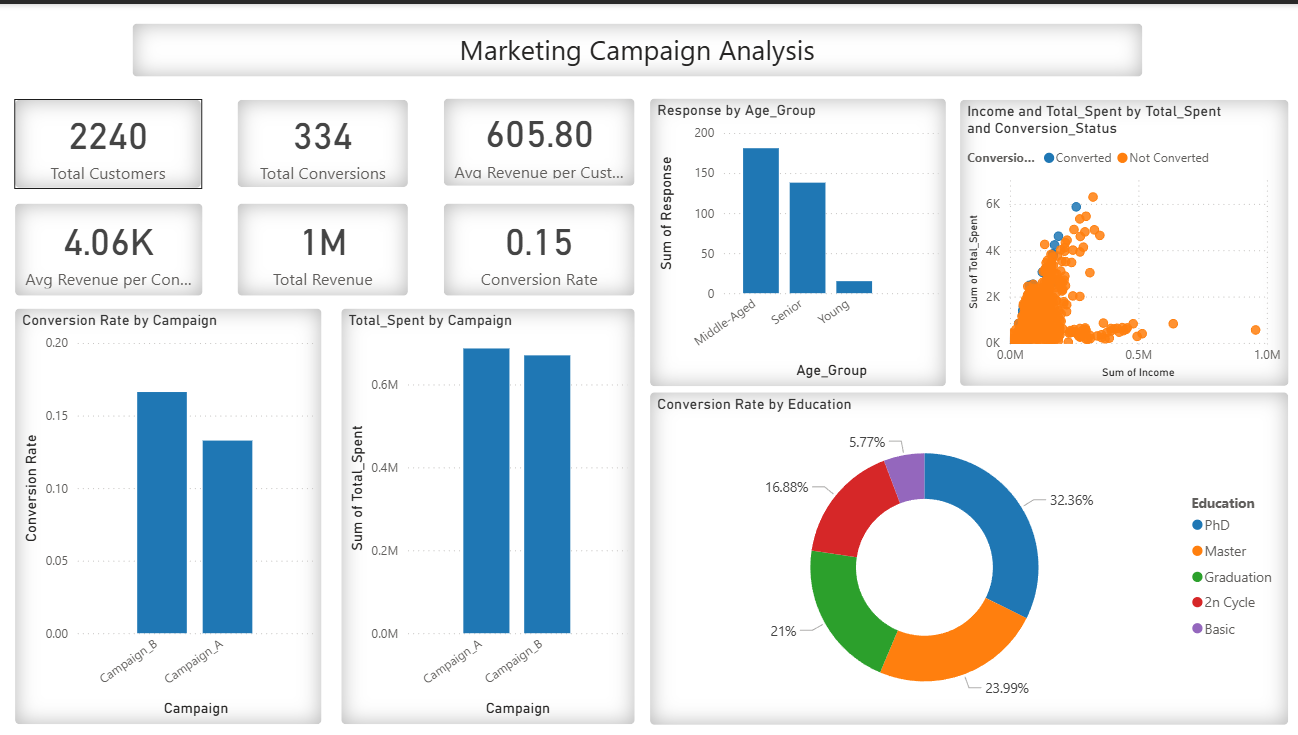

The page's visual inventory and layout, read from the dashboard file:
{"tool":"powerbi","page":{"name":"Page 1","canvas":[1280,720],"ordinal":0},"visuals":[{"type":"card","fields":{"Values":["marketing_campaign_powerbi_ready.Total Customers"]},"box":[16,93.3,184.1,88.3],"z":0},{"type":"card","fields":{"Values":["marketing_campaign_powerbi_ready.Conversion Rate"]},"box":[436.6,195.3,189.1,92.1],"z":1000},{"type":"card","fields":{"Values":["marketing_campaign_powerbi_ready.Total Conversions"]},"box":[233.9,93.3,169.2,87.1],"z":2000},{"type":"card","fields":{"Values":["marketing_campaign_powerbi_ready.Total Revenue"]},"box":[233.9,195.3,169.2,92.1],"z":3000},{"type":"card","fields":{"Values":["marketing_campaign_powerbi_ready.Avg Revenue per Customer"]},"box":[436.6,92.1,189.1,87.1],"z":4000},{"type":"card","fields":{"Values":["marketing_campaign_powerbi_ready.Avg Revenue per Converter"]},"box":[16,195.1,185.3,92],"z":5000},{"type":"clusteredColumnChart","fields":{"Category":["marketing_campaign_powerbi_ready.Campaign"],"Y":["marketing_campaign_powerbi_ready.Conversion Rate"]},"box":[16.2,298.6,302.3,409.3],"z":6000},{"type":"columnChart","title":"Total_Spent by Campaign","fields":{"Category":["marketing_campaign_powerbi_ready.Campaign"],"Y":["Sum(marketing_campaign_powerbi_ready.Total_Spent)"]},"box":[335.9,298.6,289.8,409.3],"z":7000},{"type":"columnChart","title":"Response by Age_Group","fields":{"Category":["marketing_campaign_powerbi_ready.Age_Group"],"Y":["Sum(marketing_campaign_powerbi_ready.Response)"]},"box":[639.4,92.1,292.3,283.6],"z":8000},{"type":"scatterChart","title":"Income and Total_Spent by Total_Spent and Conversion_Status","fields":{"X":["Sum(marketing_campaign_powerbi_ready.Income)"],"Series":["marketing_campaign_powerbi_ready.Conversion_Status"],"Category":["marketing_campaign_powerbi_ready.Total_Spent"],"Y":["Sum(marketing_campaign_powerbi_ready.Total_Spent)"]},"box":[943.6,93.3,323.9,282.2],"z":9000},{"type":"donutChart","fields":{"Category":["marketing_campaign_powerbi_ready.Education"],"Y":["marketing_campaign_powerbi_ready.Conversion Rate"]},"box":[639.3,380.4,628.2,327.6],"z":10000},{"type":"textbox","box":[131.9,18.7,992.7,53.5],"z":11000}]}

Visuals, with their boxes in screenshot pixels (x1, y1, x2, y2), scaled from the page's 1280x720 canvas onto the 1298x735 screenshot:
card - marketing_campaign_powerbi_ready.Total Customers: x1=16 y1=95 x2=203 y2=185
card - marketing_campaign_powerbi_ready.Conversion Rate: x1=443 y1=199 x2=634 y2=293
card - marketing_campaign_powerbi_ready.Total Conversions: x1=237 y1=95 x2=409 y2=184
card - marketing_campaign_powerbi_ready.Total Revenue: x1=237 y1=199 x2=409 y2=293
card - marketing_campaign_powerbi_ready.Avg Revenue per Customer: x1=443 y1=94 x2=634 y2=183
card - marketing_campaign_powerbi_ready.Avg Revenue per Converter: x1=16 y1=199 x2=204 y2=293
clusteredColumnChart - marketing_campaign_powerbi_ready.Campaign x marketing_campaign_powerbi_ready.Conversion Rate: x1=16 y1=305 x2=323 y2=723
"Total_Spent by Campaign" columnChart: x1=341 y1=305 x2=634 y2=723
"Response by Age_Group" columnChart: x1=648 y1=94 x2=945 y2=384
"Income and Total_Spent by Total_Spent and Conversion_Status" scatterChart: x1=957 y1=95 x2=1285 y2=383
donutChart - marketing_campaign_powerbi_ready.Education x marketing_campaign_powerbi_ready.Conversion Rate: x1=648 y1=388 x2=1285 y2=723
textbox: x1=134 y1=19 x2=1140 y2=74
